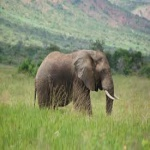Animal: (34, 50, 114, 120)
Uncultivated: (3, 47, 148, 150)
